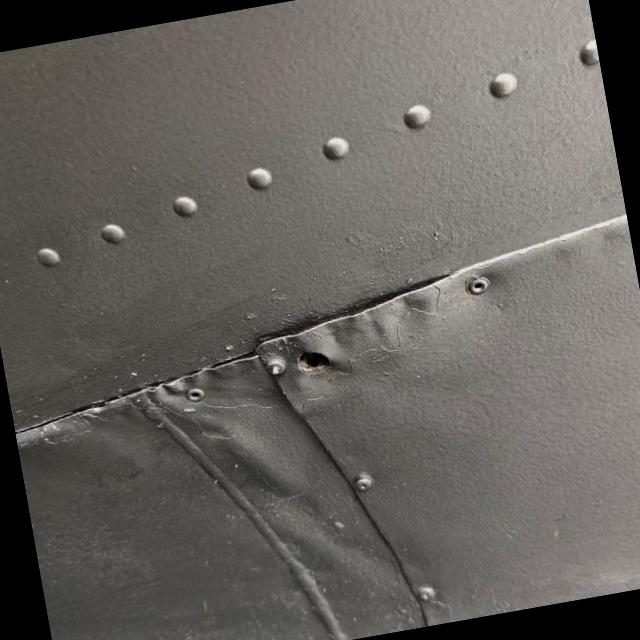Missing Fastener: (296, 348, 332, 376)
